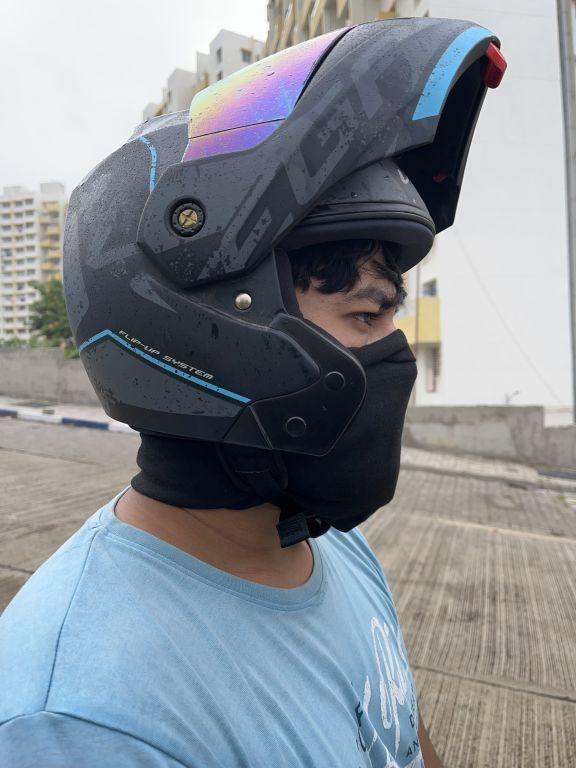helmet: (45, 5, 520, 533)
